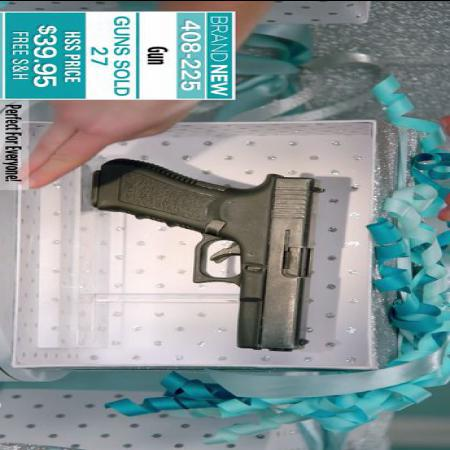Pistol: (96, 160, 324, 348)
